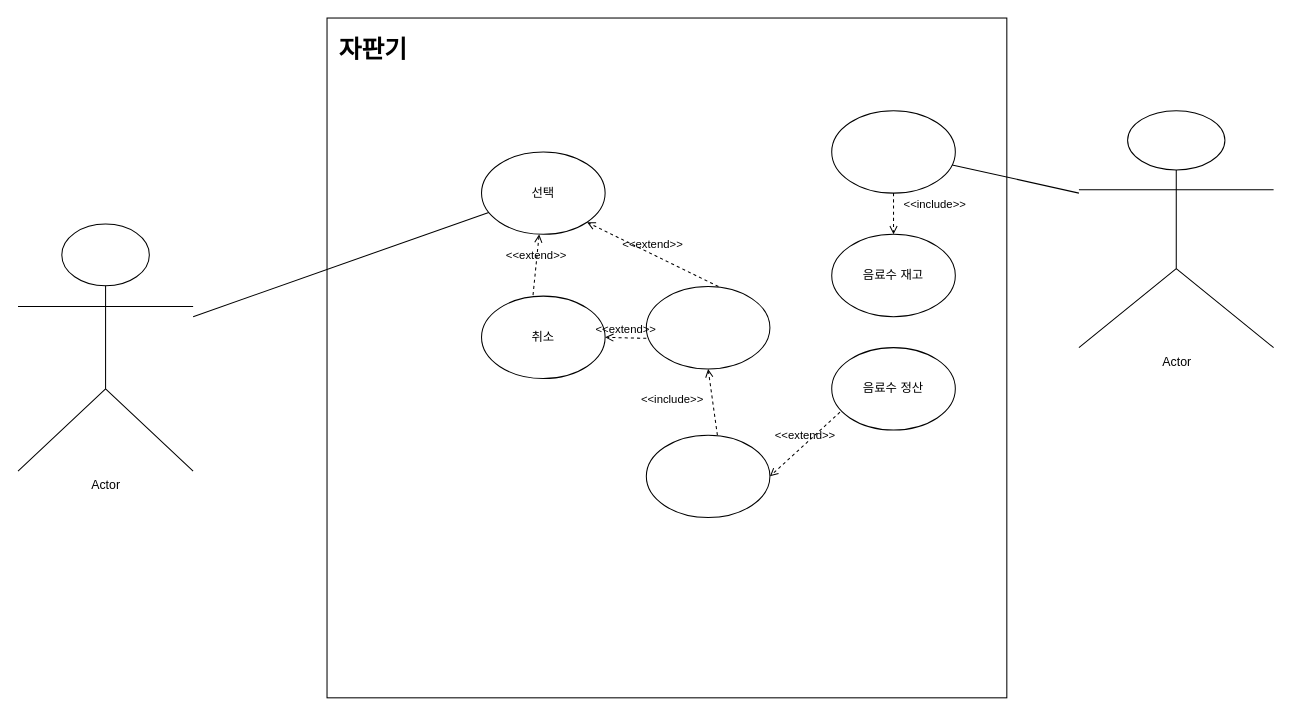
Image size: 1292x716. Some labels were removed from this diagram. The shapes that lost their labels are listed below. From the top down, each one's centre as x and y in pixels, then its label:
At pixel 893 151: "음료수 등록".
At pixel 707 327: "구매".
At pixel 707 476: "결제".
